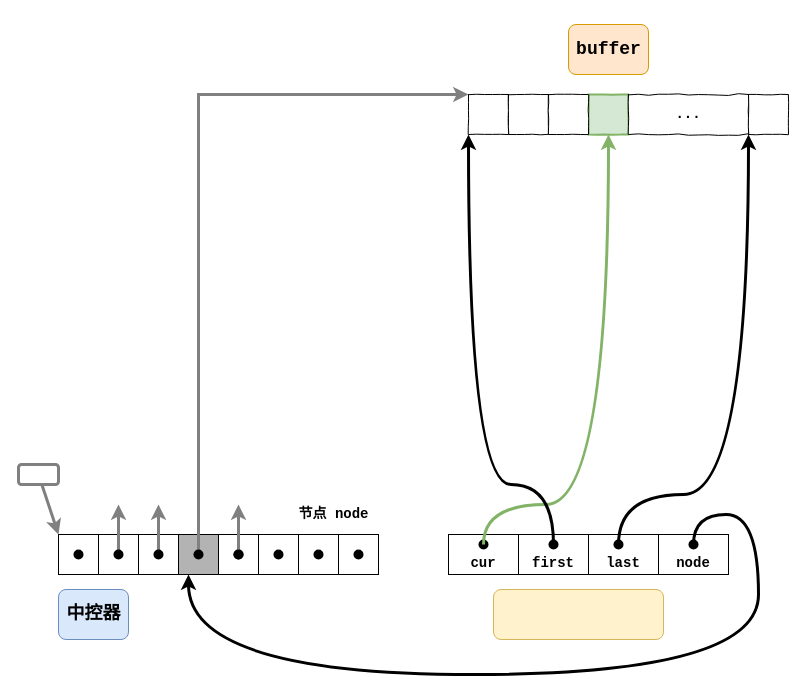
Some shapes in this 806 by 693 pixel diagram are drawn without their labels. The centre of each missing label's shape, as x and y in pixels:
map: (x=38, y=474)
迭代器 iterator: (x=578, y=614)
